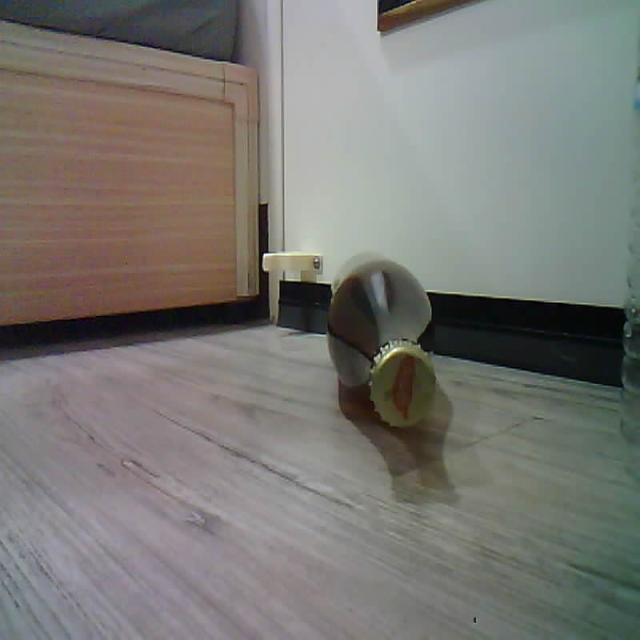bottle: (327, 256, 435, 426)
